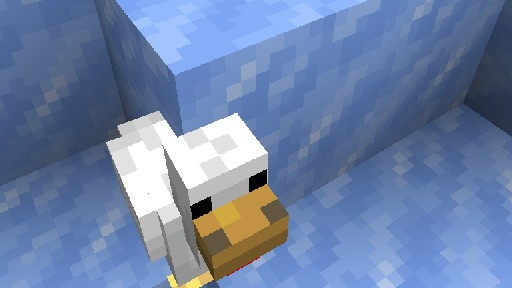chicken: (105, 92, 289, 288)
